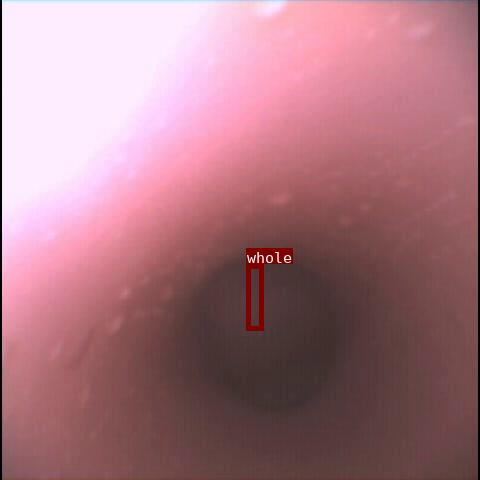whole: (246, 264, 263, 330)
